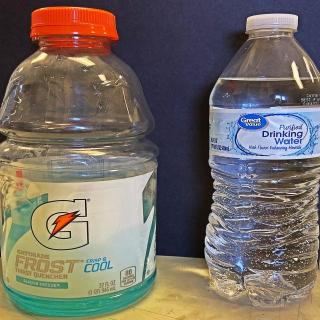Plastic-bottle: (1, 5, 163, 320), (201, 9, 320, 313)
